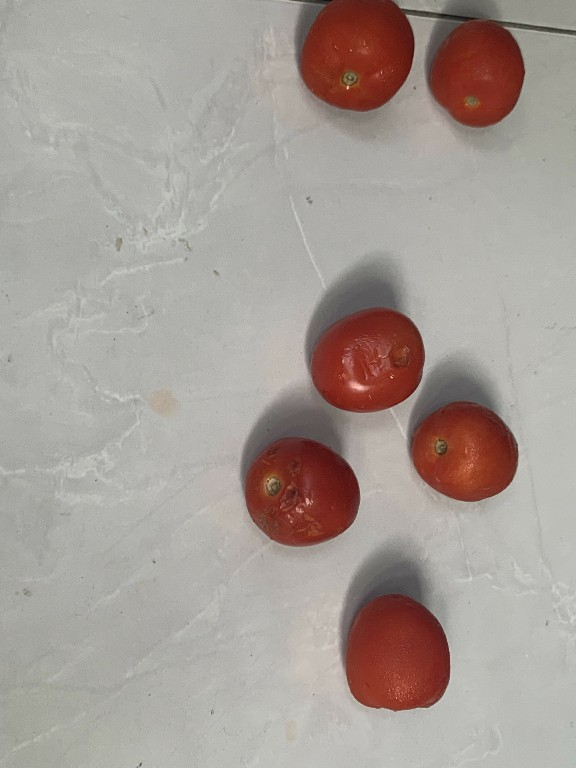NG: (248, 431, 359, 550), (307, 306, 428, 411)
OK: (337, 588, 456, 712), (303, 3, 413, 110), (426, 17, 532, 126), (410, 399, 522, 502)
